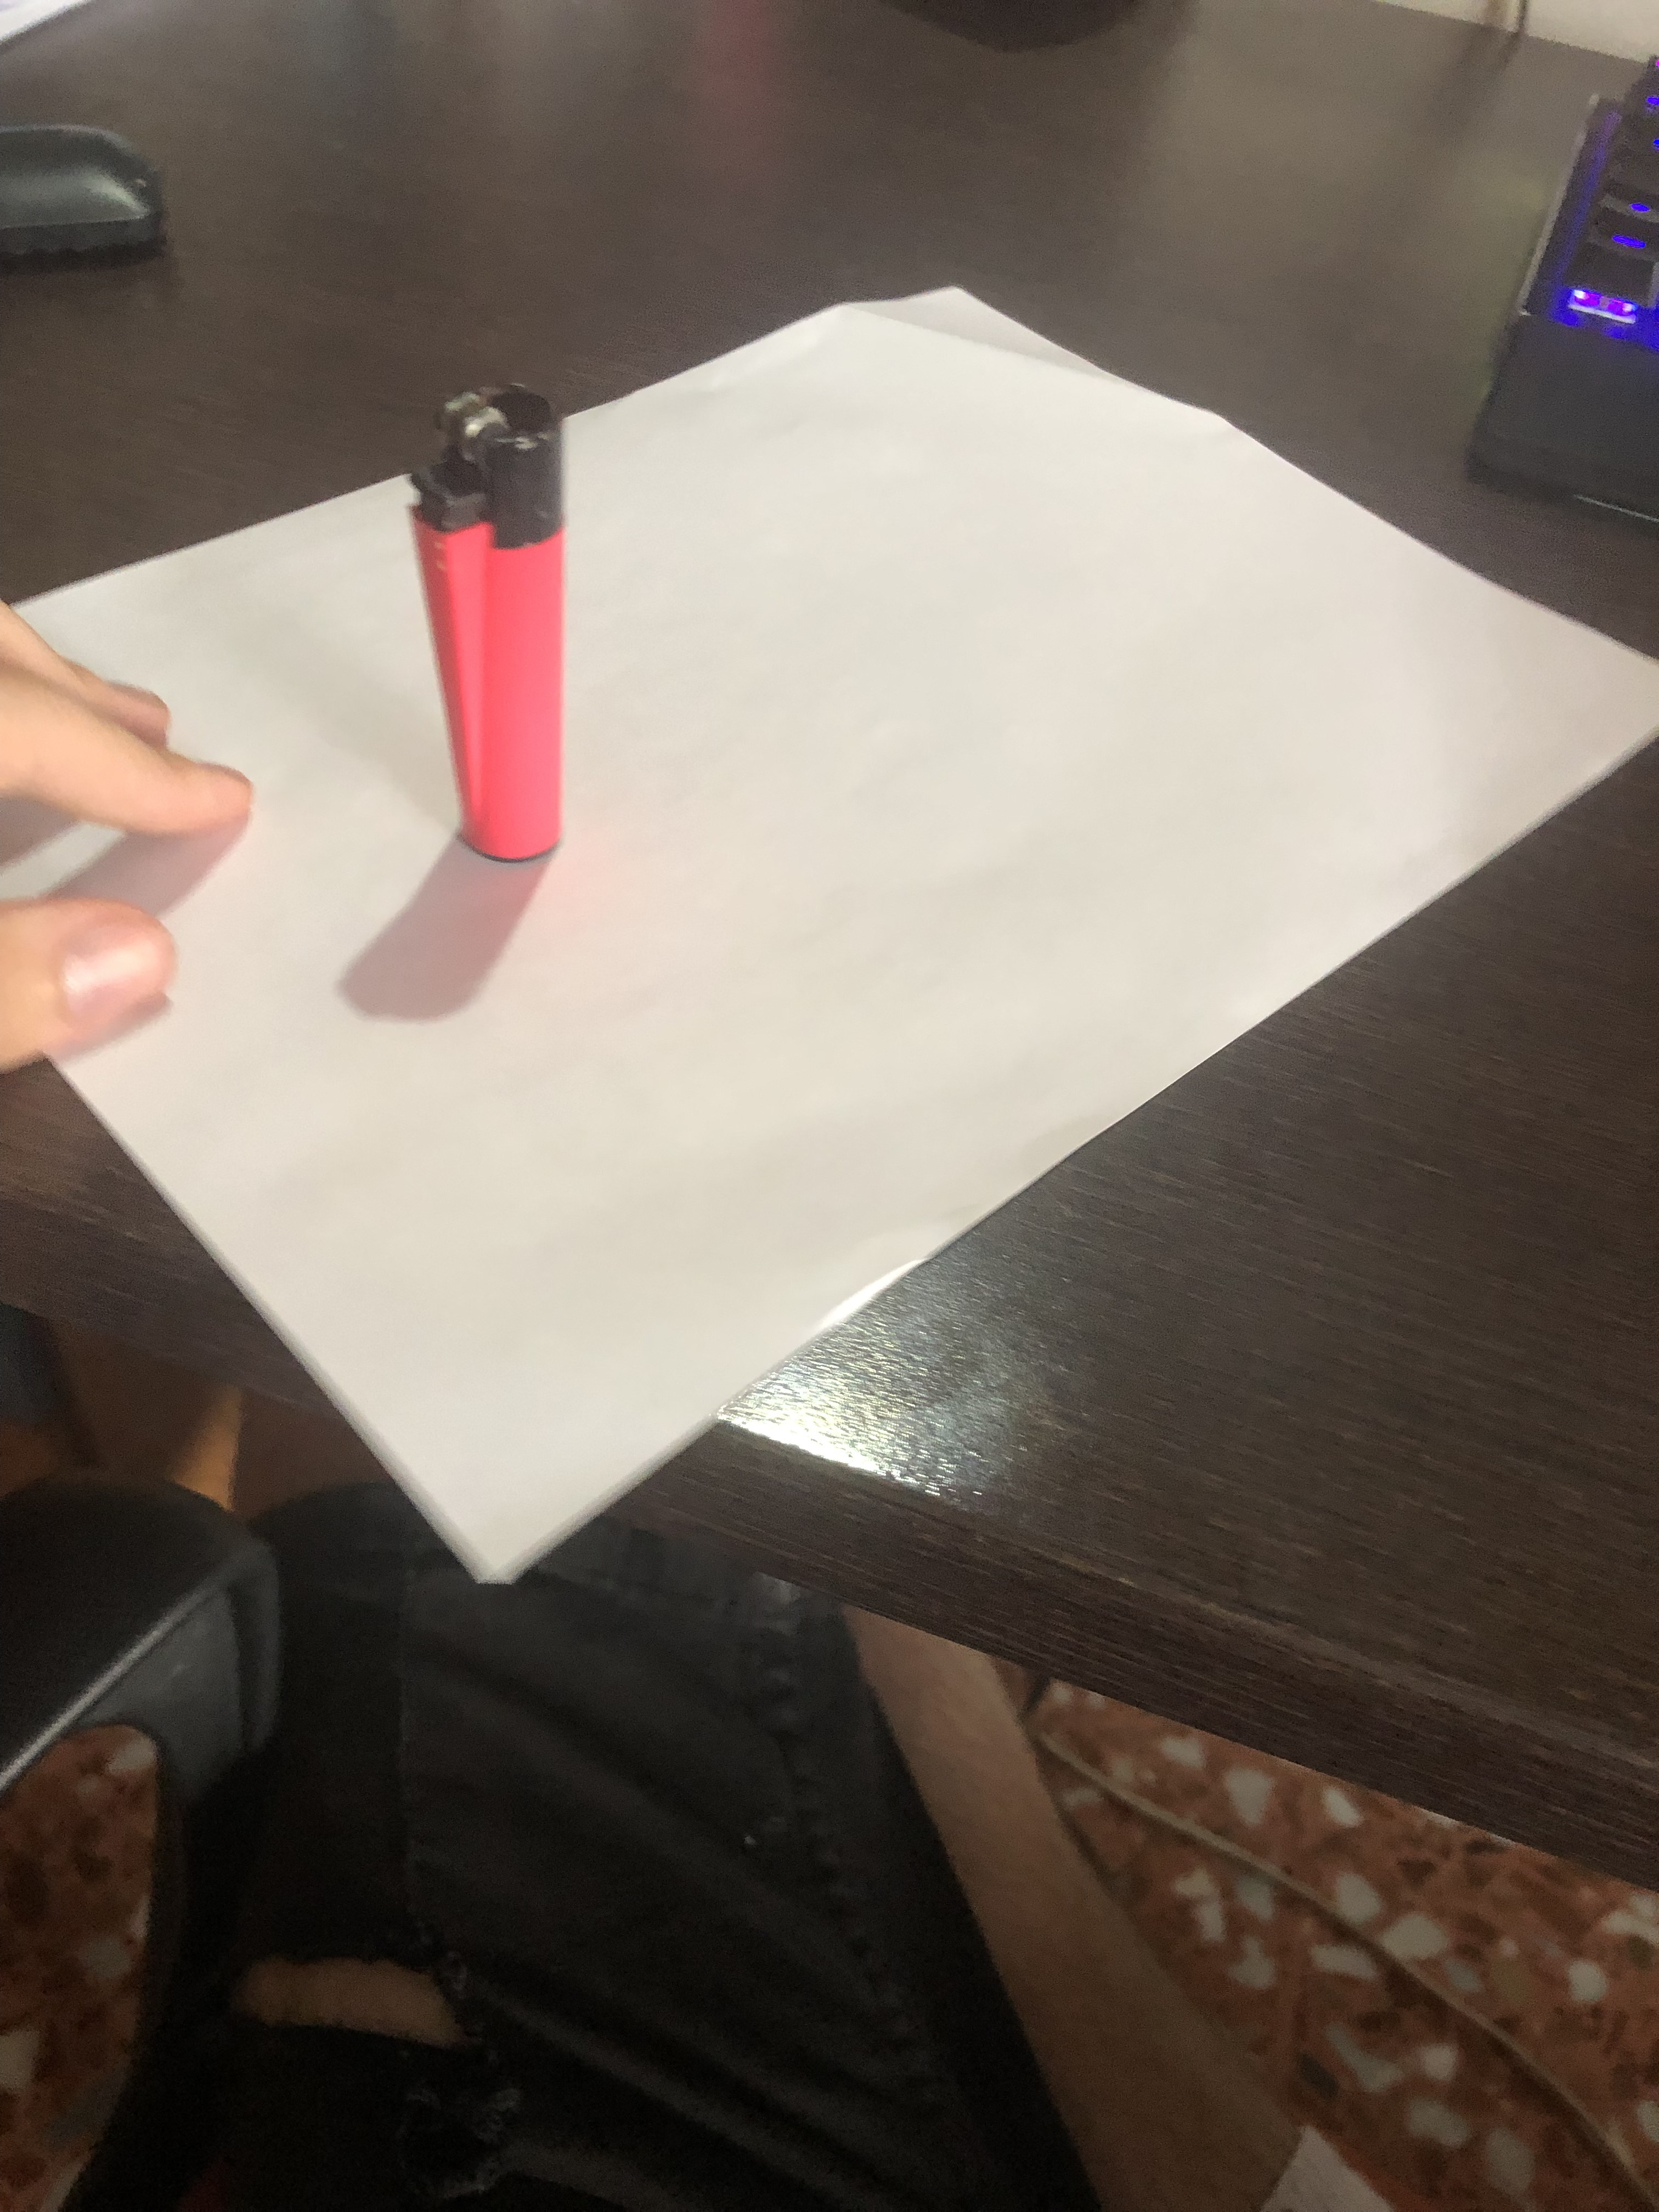Mechero: (403, 385, 584, 880)
